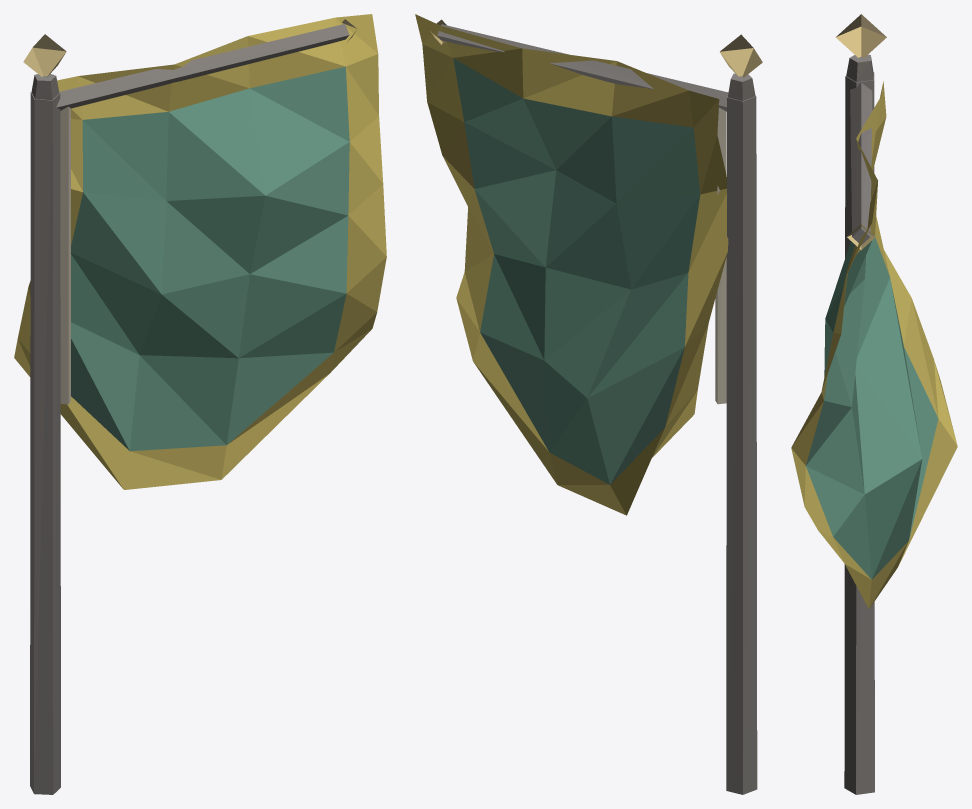
Rendered from flag.roundFly.cuiqi__pole.stick.fangun__armHang.glb.
The picture shows the model from 3 angles, left to right: view 1: azimuth 30°, elevation 25°; view 2: azimuth 150°, elevation 25°; view 3: azimuth 270°, elevation 25°; orthographic projection. The views are drawn at different scales.
Visible parts, largest first — view 1: flag.roundFly.cuiqi; view 2: flag.roundFly.cuiqi; view 3: flag.roundFly.cuiqi.
Boxes of the visible parts, x1=… form: flag.roundFly.cuiqi: x1=14, y1=14, x2=386, y2=794; flag.roundFly.cuiqi: x1=415, y1=14, x2=762, y2=794; flag.roundFly.cuiqi: x1=791, y1=14, x2=957, y2=794.
Bounding box in the file's own units: 1.1 × 2.28 × 0.4452.
